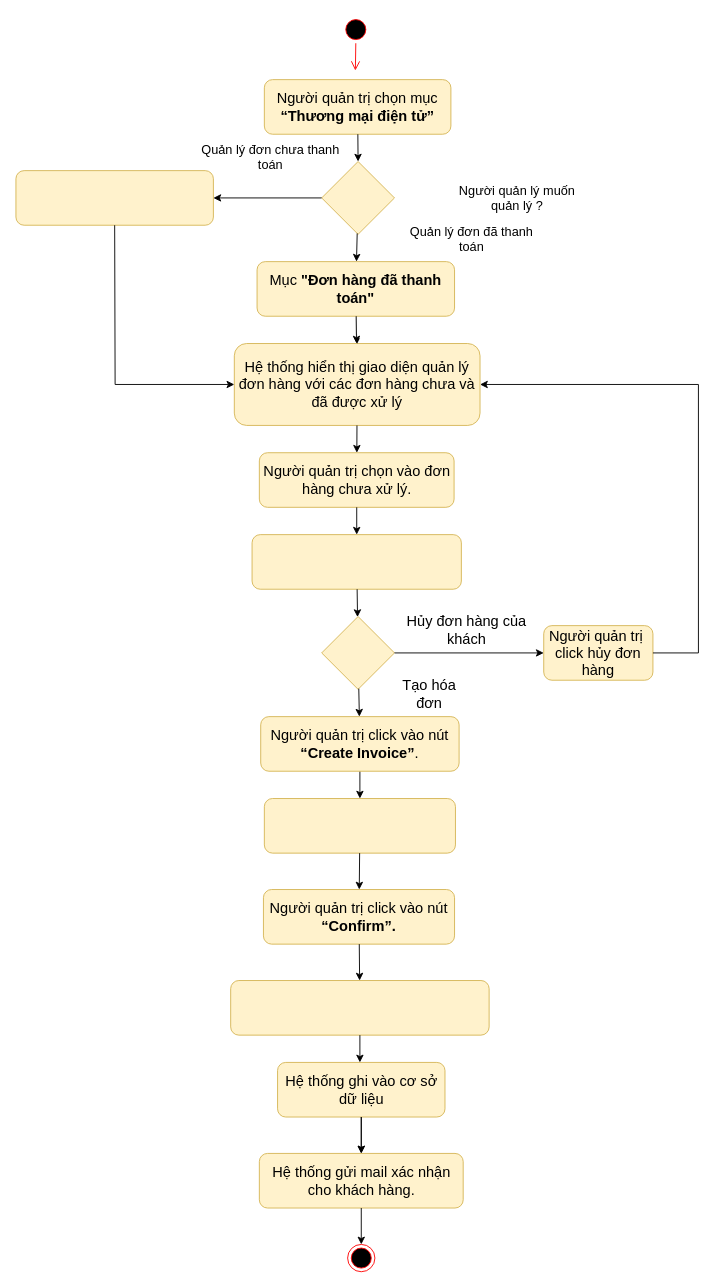
The diagram is 722 pixels wide and 1288 high, and some of its shapes have lost their labels. The centre of each missing label's shape, as x and y in pixels:
Hệ thông hiển thị thông tin chi tiết đơn hàng.: [356,561]
Hệ thống thông báo tạo hóa đơn thành công.: [359,1007]
Hệ thống tạo ra bản xem trước hóa đơn.: [359,825]
Mục "Đơn hàng chưa thanh toán": [114,197]
